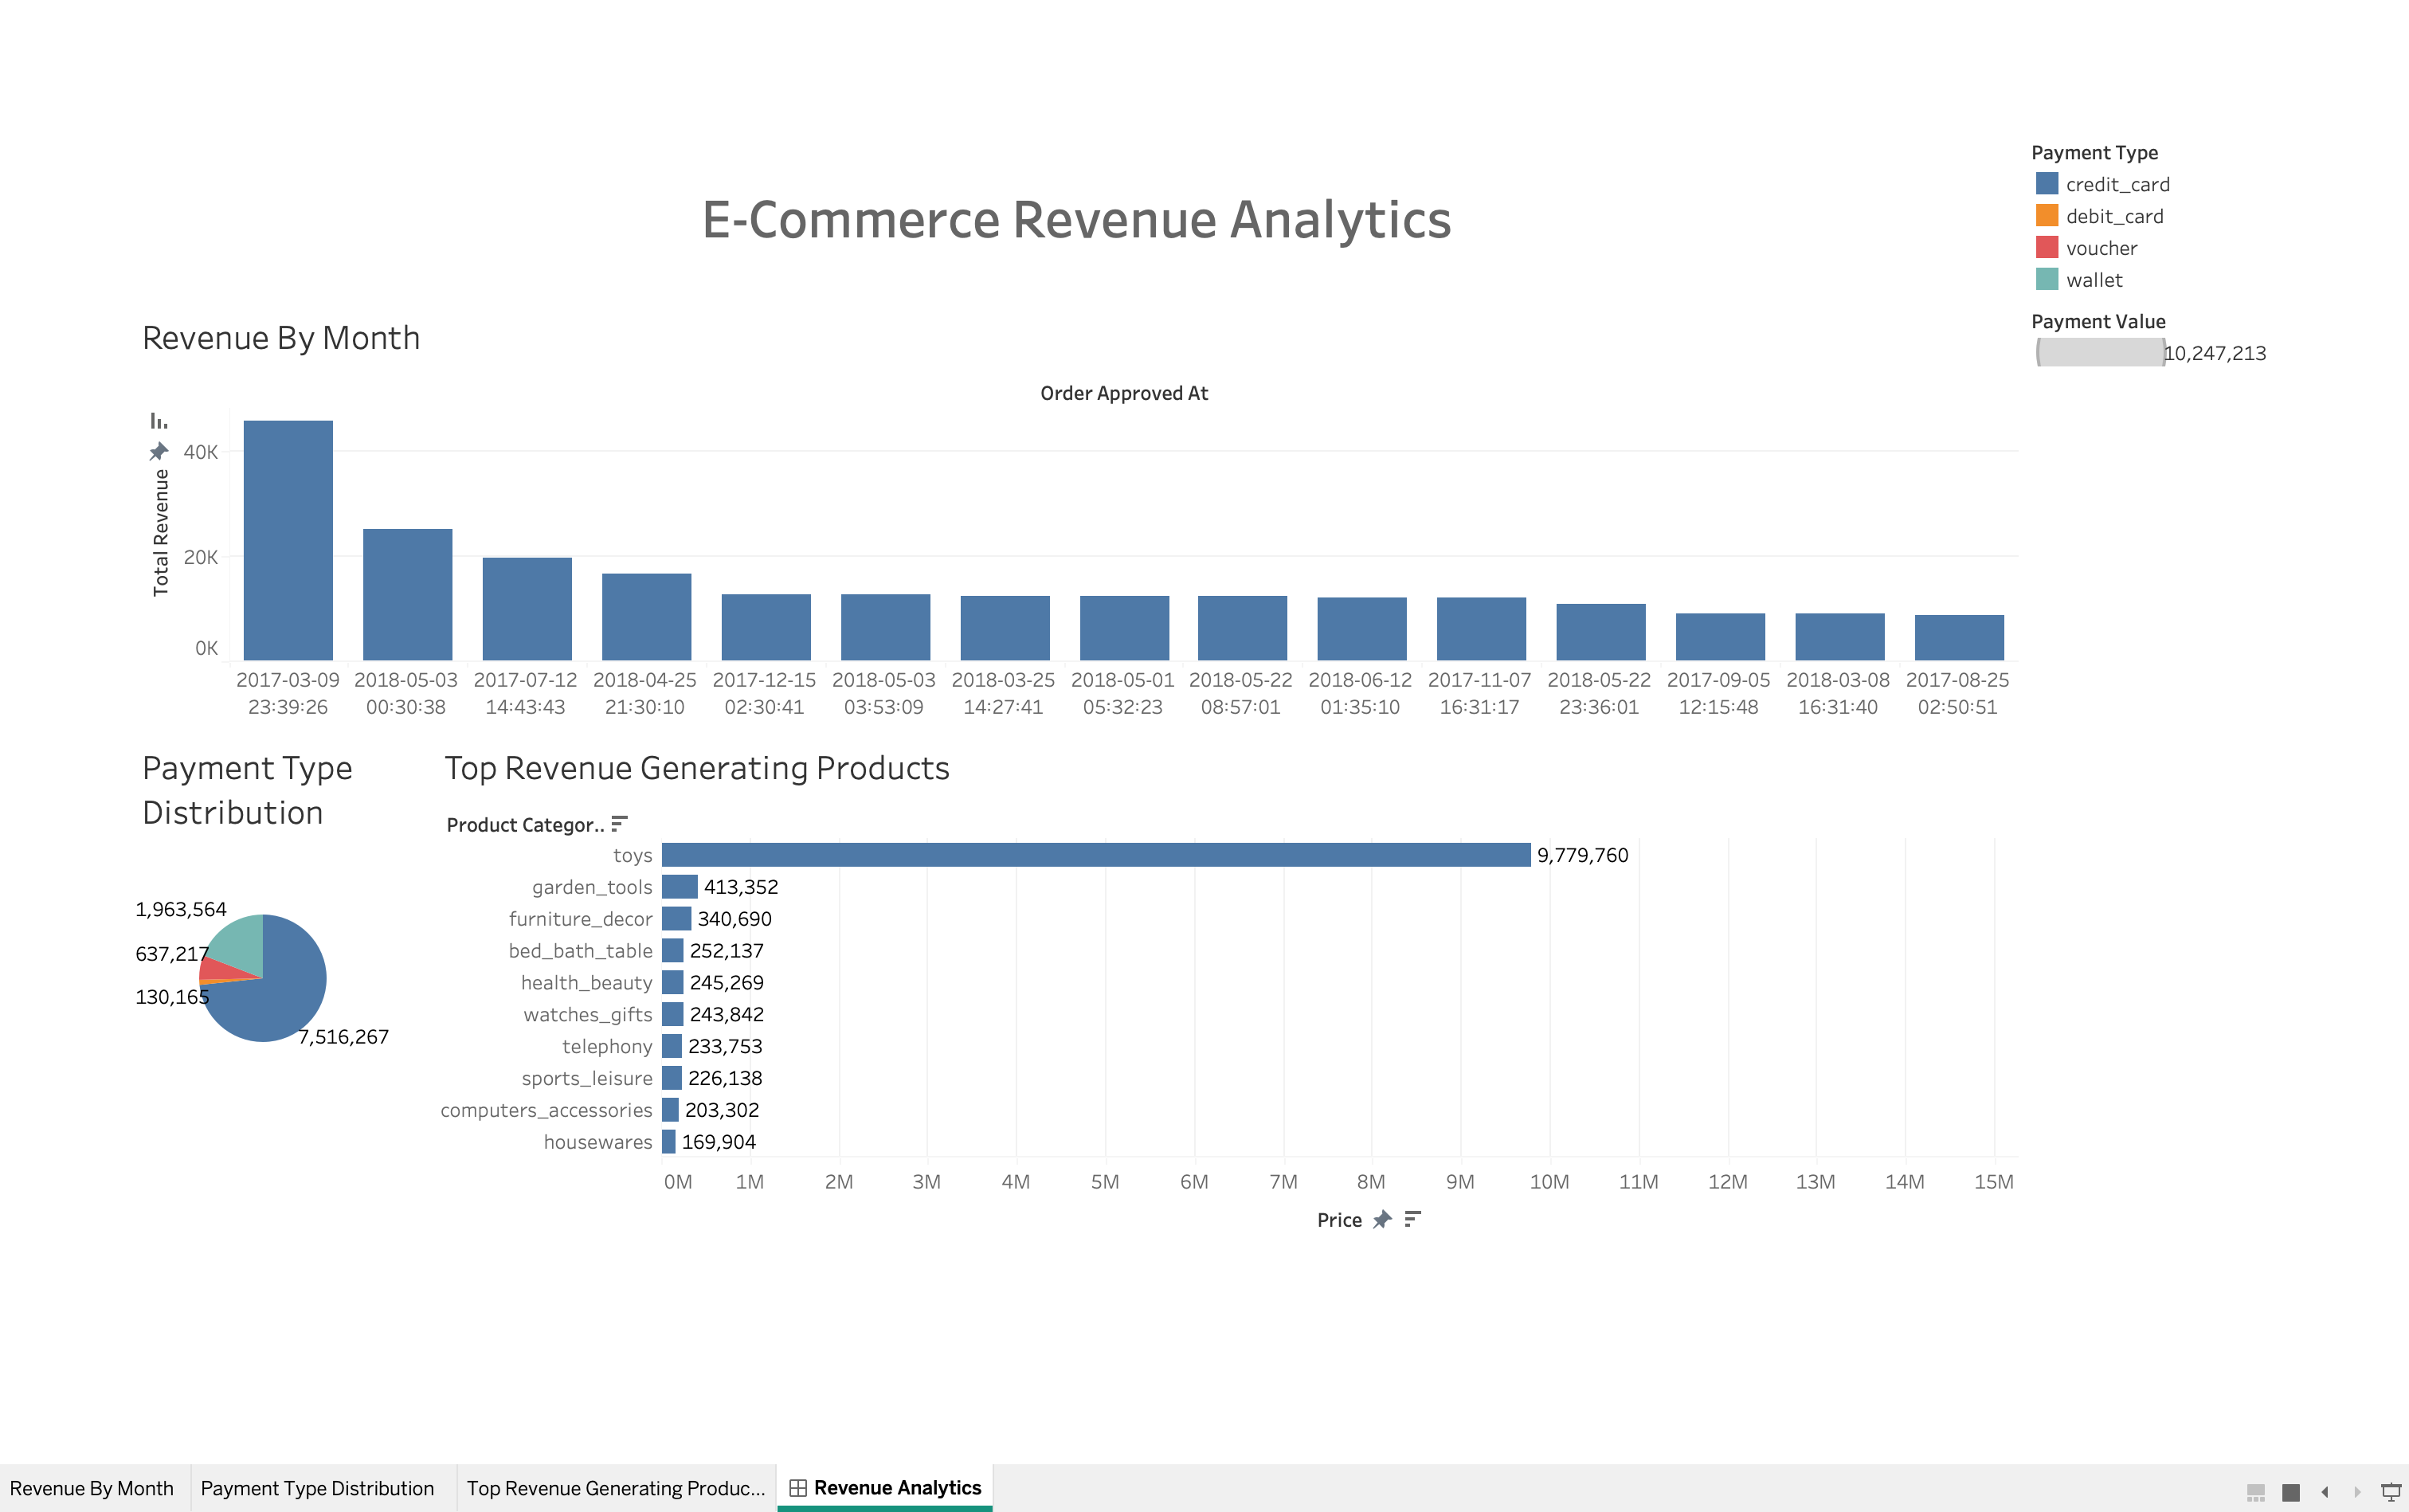

The page's visual inventory and layout, read from the dashboard file:
{"tool":"tableau","page":{"name":"Revenue Analytics","canvas":[1366,768],"ordinal":0},"visuals":[{"type":"text","box":[8,8,1190,106]},{"type":"legend","title":"Payment Type Distribution","param":"[federated.0zae2ar0vdbkwc15ovaa903cmht6].[none:payment_type:nk]","box":[1198,8,160,106]},{"type":"worksheet","title":"Revenue By Month","mark":"Automatic","rows":["Calculation_1193058942193664"],"cols":["order_approved_at"],"box":[8,114,1190,270]},{"type":"legend","title":"Payment Type Distribution","param":"[federated.0zae2ar0vdbkwc15ovaa903cmht6].[sum:payment_value:qk]","box":[1198,114,160,46]},{"type":"worksheet","title":"Payment Type Distribution","mark":"Pie","box":[8,384,190,376]},{"type":"worksheet","title":"Top Revenue Generating Products","mark":"Automatic","rows":["product_category_name"],"cols":["price"],"box":[198,384,1000,376]}]}

Visuals, with their boxes on the page's 1366x768 design canvas (x1, y1, x2, y2). These are canvas units, not pixel positions in the 2409x1512 screenshot, which may show the page scaled, cropped or inside an application window:
text: detection(8, 8, 1198, 114)
"Payment Type Distribution" legend: detection(1198, 8, 1358, 114)
"Revenue By Month" worksheet: detection(8, 114, 1198, 384)
"Payment Type Distribution" legend: detection(1198, 114, 1358, 160)
"Payment Type Distribution" worksheet (Pie marks): detection(8, 384, 198, 760)
"Top Revenue Generating Products" worksheet: detection(198, 384, 1198, 760)
